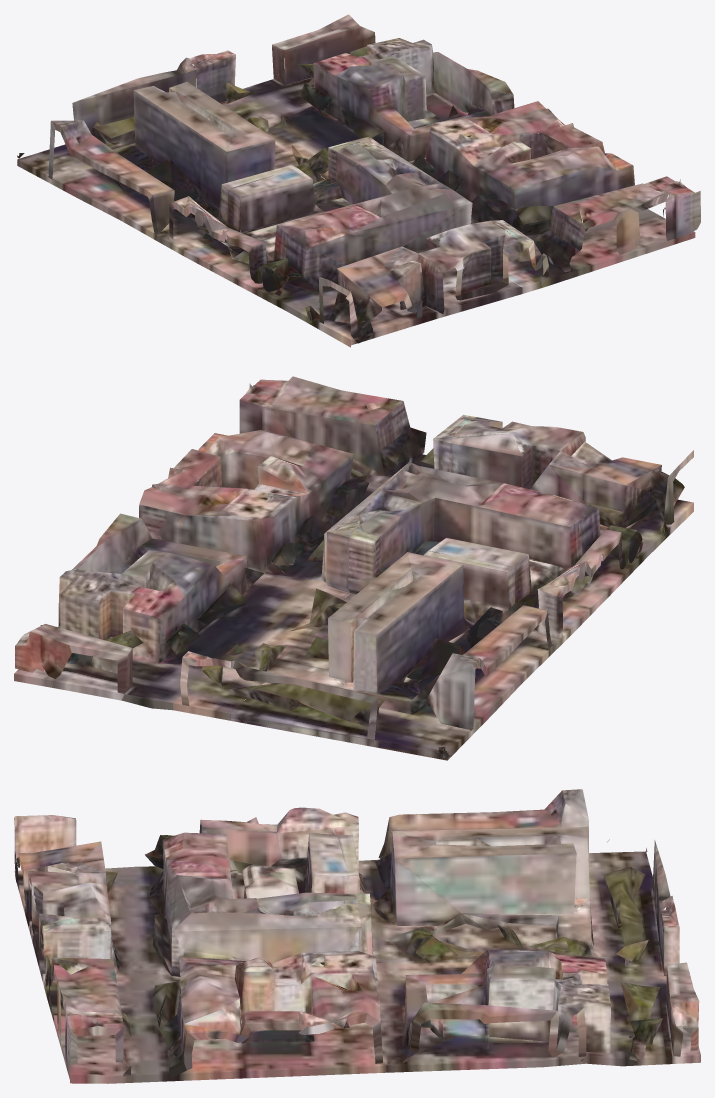
The picture shows the model from 3 angles, top to bottom: view 1: azimuth 30°, elevation 25°; view 2: azimuth 150°, elevation 25°; view 3: azimuth 270°, elevation 25°; orthographic projection. The views are drawn at different scales.
Parts seen in each view (by area): view 1: Mesh_0; view 2: Mesh_0; view 3: Mesh_0.
Boxes of the visible parts, bbox=[...] form: Mesh_0: bbox=[17, 14, 700, 347]; Mesh_0: bbox=[14, 376, 693, 760]; Mesh_0: bbox=[14, 789, 700, 1083].
Bounding box in the file's own units: 272 × 45.87 × 330.
2 materials, 2 textured.
